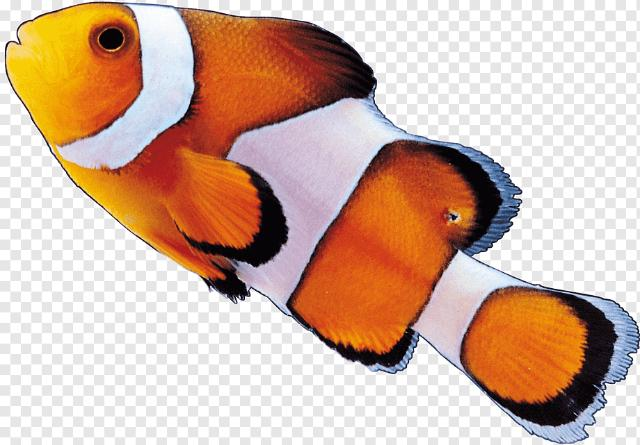Mulut: (0, 12, 60, 118)
Sirip Anal: (281, 291, 429, 393)
Sirip Dada: (150, 134, 298, 282)
Sirip Ekor: (458, 280, 640, 445)
Sirip Perut: (148, 238, 264, 324)
Sirip Punggung: (250, 3, 534, 263)
